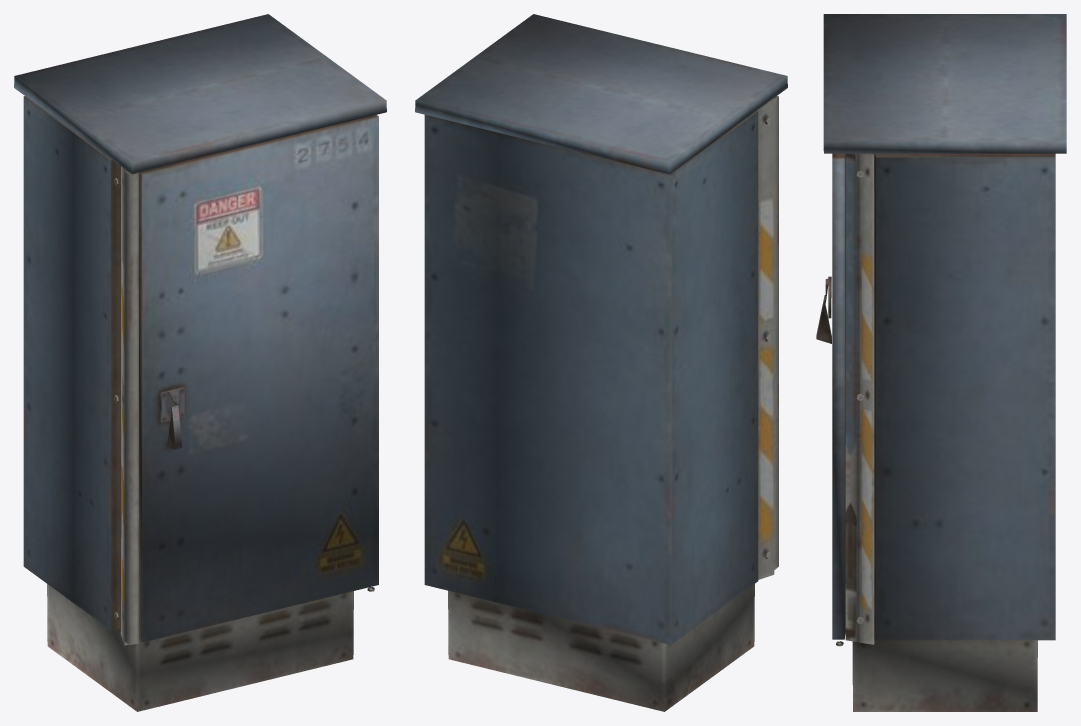
File: utility_box_01.glb
3 views of the same model, side by side, from view 1: azimuth 30°, elevation 25°; view 2: azimuth 150°, elevation 25°; view 3: azimuth 270°, elevation 25° (orthographic). The views are drawn at different scales.
Visible parts, largest first — view 1: utility_box_01_box; view 2: utility_box_01_box; view 3: utility_box_01_box.
Boxes of the visible parts, box(x1,y1,x2,y2) form: utility_box_01_box: box(14, 14, 386, 711); utility_box_01_box: box(415, 14, 787, 711); utility_box_01_box: box(816, 14, 1066, 711).
Size of the model in its own units: 0.5157 by 1.09 by 0.4278.
1 material, 1 textured.
